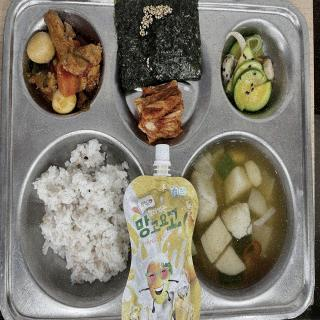Nasi: (33, 141, 124, 284)
